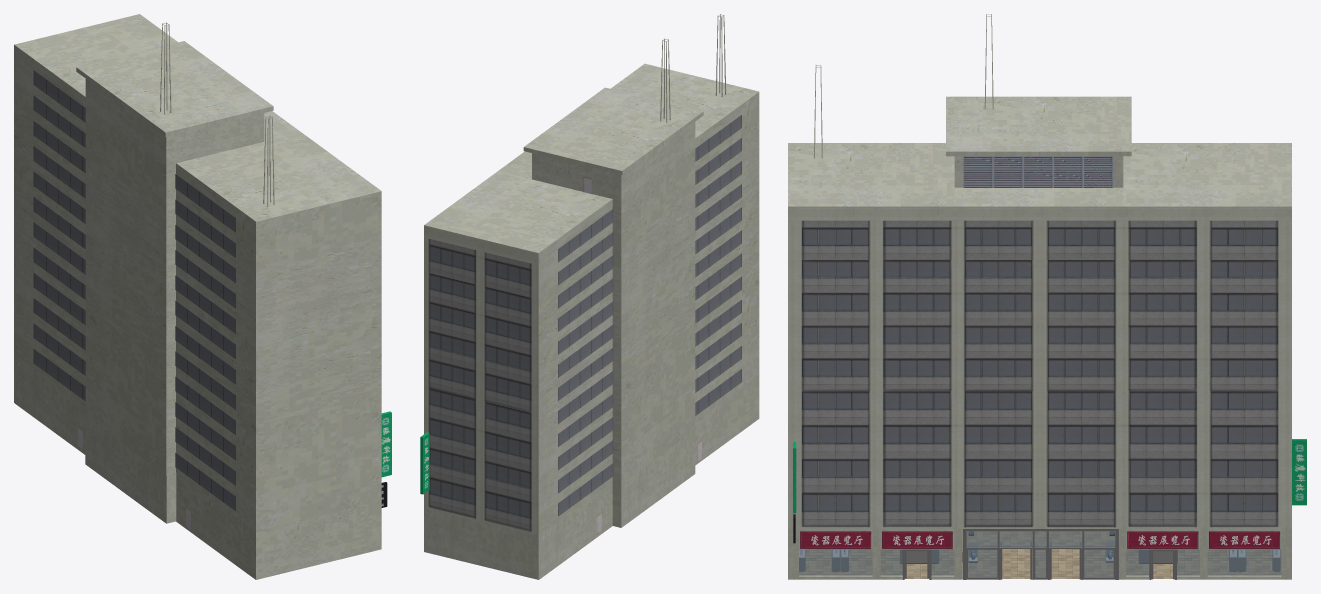
File: SYJ_ciqidian.FBX
3 views of the same model, side by side, from view 1: azimuth 30°, elevation 25°; view 2: azimuth 150°, elevation 25°; view 3: azimuth 270°, elevation 25° (orthographic). The views are drawn at different scales.
Visible parts, largest first — view 1: erlou, yilou; view 2: erlou, yilou; view 3: erlou, dimian, boli, yilou, meng, zhantai.
Part boxes in pixels (x1=…): erlou: x1=14, y1=14, x2=391, y2=531; yilou: x1=14, y1=354, x2=381, y2=579; erlou: x1=420, y1=14, x2=759, y2=535; yilou: x1=424, y1=374, x2=759, y2=579; erlou: x1=788, y1=14, x2=1306, y2=543; dimian: x1=799, y1=531, x2=1281, y2=578; boli: x1=799, y1=531, x2=1281, y2=577; yilou: x1=788, y1=529, x2=1291, y2=579; meng: x1=902, y1=529, x2=1176, y2=579; zhantai: x1=799, y1=531, x2=1280, y2=571.
Size of the model in its own units: 2270 by 6883 by 6419.
